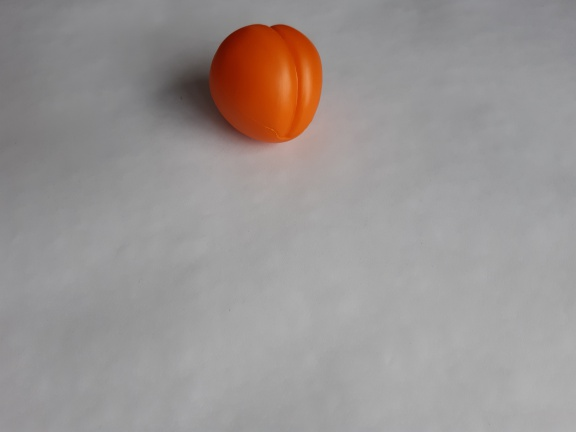apricot: (201, 17, 335, 153)
